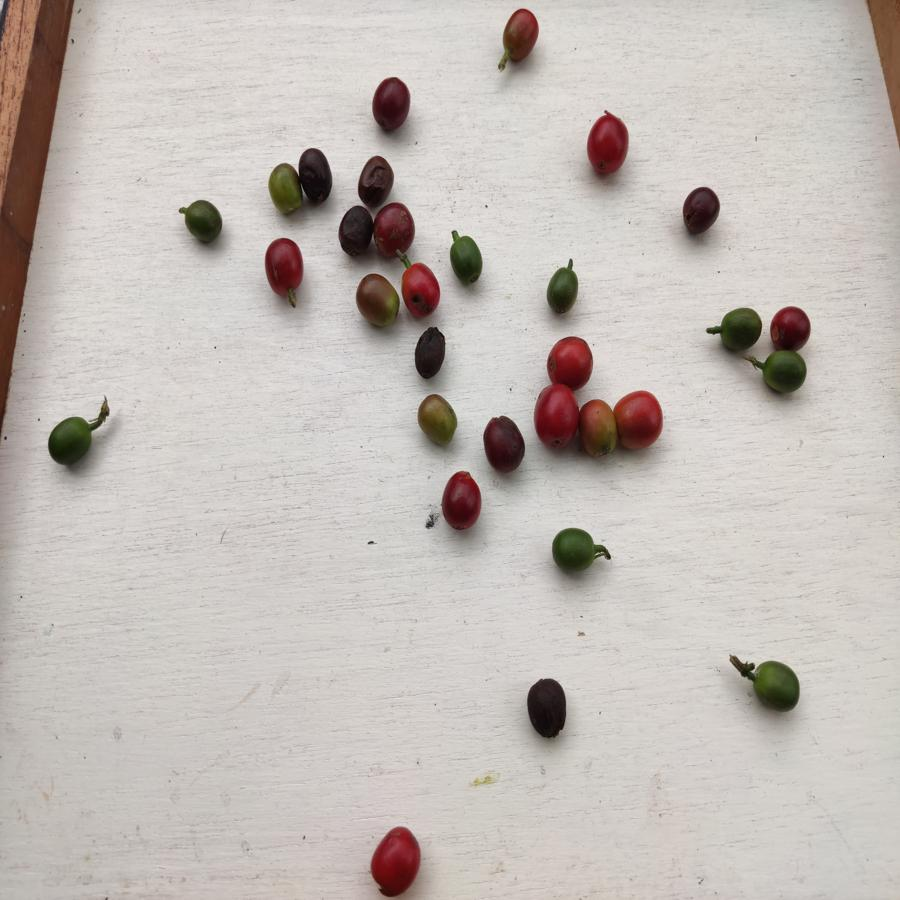Inmaduro: (750, 660, 804, 714), (46, 415, 96, 469), (549, 524, 596, 574), (716, 304, 761, 351), (763, 348, 804, 394), (182, 199, 224, 243), (447, 234, 485, 282), (545, 264, 581, 314)
Maduro: (368, 821, 422, 897), (584, 111, 631, 181), (533, 381, 578, 451), (261, 237, 310, 301), (616, 387, 664, 452), (440, 471, 484, 534), (399, 261, 443, 321), (546, 335, 594, 386)
Pinton: (416, 392, 462, 447), (500, 2, 539, 65), (354, 273, 400, 326), (579, 396, 615, 458), (266, 164, 303, 214)
Sobremaduro: (525, 675, 568, 739), (371, 199, 415, 257), (483, 414, 526, 471), (297, 144, 334, 206), (371, 76, 411, 131), (770, 301, 813, 351), (682, 186, 720, 237), (336, 205, 372, 258), (414, 324, 446, 377), (358, 156, 394, 201)
